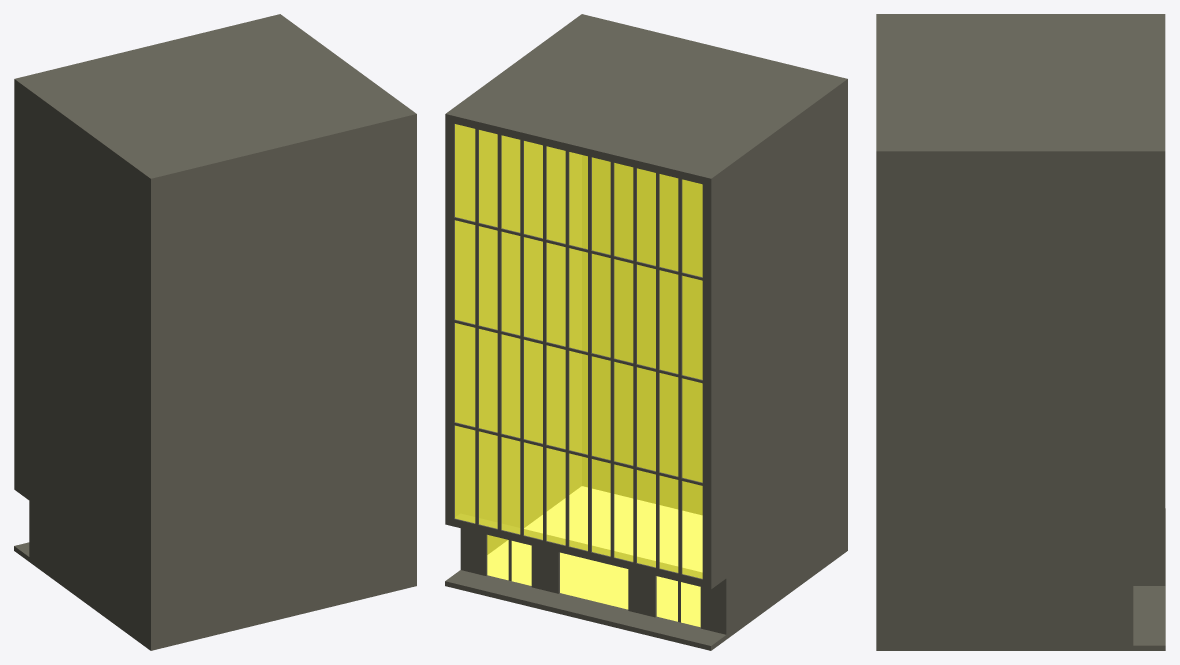
Rendered from businessBuilding.fbx.
3 renders of one model, left to right at view 1: azimuth 30°, elevation 25°; view 2: azimuth 150°, elevation 25°; view 3: azimuth 270°, elevation 25°, orthographic. The views are drawn at different scales.
Parts seen in each view (by area): view 1: businessBuilding; view 2: businessBuilding; view 3: businessBuilding.
Boxes of the visible parts, x1=… form: businessBuilding: x1=14, y1=14, x2=416, y2=650; businessBuilding: x1=445, y1=14, x2=847, y2=650; businessBuilding: x1=876, y1=14, x2=1165, y2=650.
Size of the model in its own units: 1659 by 2813 by 1477.
